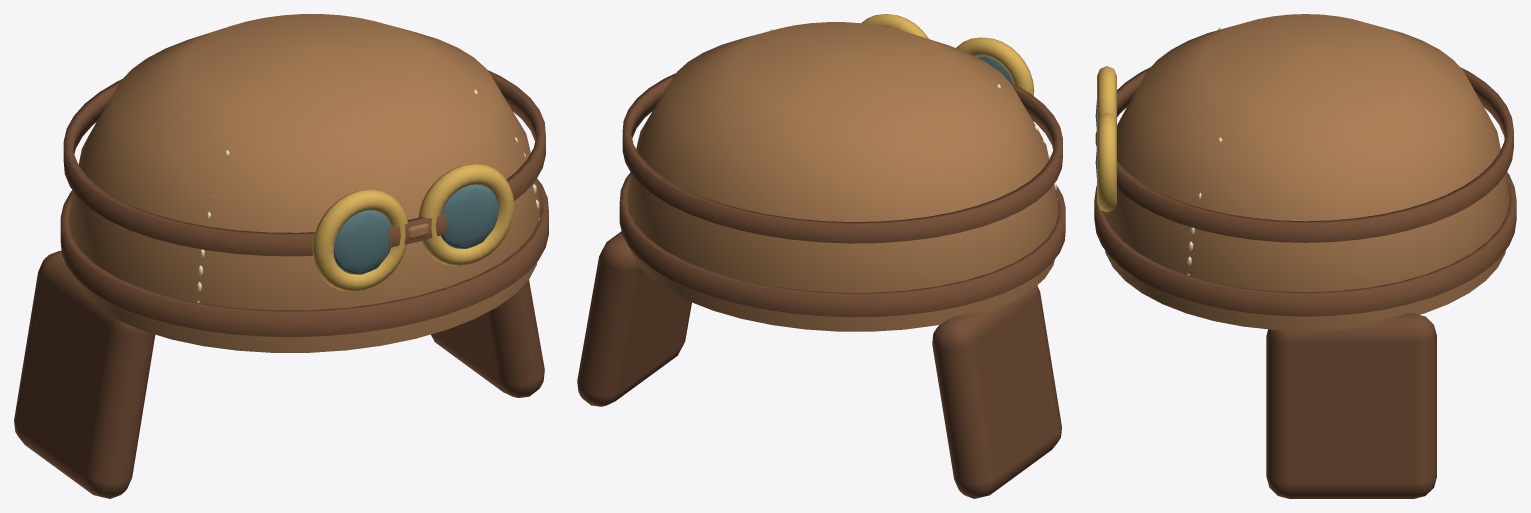
Rendered from 18-sky-road-aviator.glb.
3 views of the same model, side by side, from view 1: azimuth 30°, elevation 25°; view 2: azimuth 150°, elevation 25°; view 3: azimuth 270°, elevation 25° (orthographic). The views are drawn at different scales.
Visible parts, largest first — view 1: Hat18_Crown1, Hat18_EarFlap2, Hat18_Band4, Hat18_Band10, Hat18_EarFlap3, Hat18_GoggleFrame5, Hat18_GoggleFrame7, Hat18_RoundDetail6, Hat18_RoundDetail8; view 2: Hat18_Crown1, Hat18_EarFlap2, Hat18_Band10, Hat18_Band4, Hat18_EarFlap3, Hat18_GoggleFrame5, Hat18_GoggleFrame7; view 3: Hat18_Crown1, Hat18_EarFlap3, Hat18_Band4, Hat18_Band10, Hat18_GoggleFrame7, Hat18_GoggleFrame5.
Part boxes in pixels (box(x1,y1,x2,y2)): Hat18_Crown1: box(68, 14, 541, 352); Hat18_EarFlap2: box(14, 250, 155, 498); Hat18_Band4: box(60, 178, 548, 336); Hat18_Band10: box(63, 70, 545, 256); Hat18_EarFlap3: box(431, 280, 544, 397); Hat18_GoggleFrame5: box(312, 190, 407, 291); Hat18_GoggleFrame7: box(418, 164, 514, 265); Hat18_RoundDetail6: box(333, 210, 391, 274); Hat18_RoundDetail8: box(441, 184, 499, 248); Hat18_Crown1: box(626, 22, 1058, 331); Hat18_EarFlap2: box(932, 285, 1061, 498); Hat18_Band10: box(622, 73, 1062, 243); Hat18_Band4: box(619, 172, 1065, 317); Hat18_EarFlap3: box(577, 231, 691, 406); Hat18_GoggleFrame5: box(956, 37, 1034, 95); Hat18_GoggleFrame7: box(861, 14, 928, 38); Hat18_Crown1: box(1103, 14, 1509, 330); Hat18_EarFlap3: box(1266, 313, 1436, 498); Hat18_Band4: box(1094, 172, 1516, 316); Hat18_Band10: box(1117, 67, 1513, 242); Hat18_GoggleFrame7: box(1097, 113, 1116, 212); Hat18_GoggleFrame5: box(1097, 66, 1116, 122).
Size of the model in its own units: 0.6756 by 0.5529 by 0.5933.
